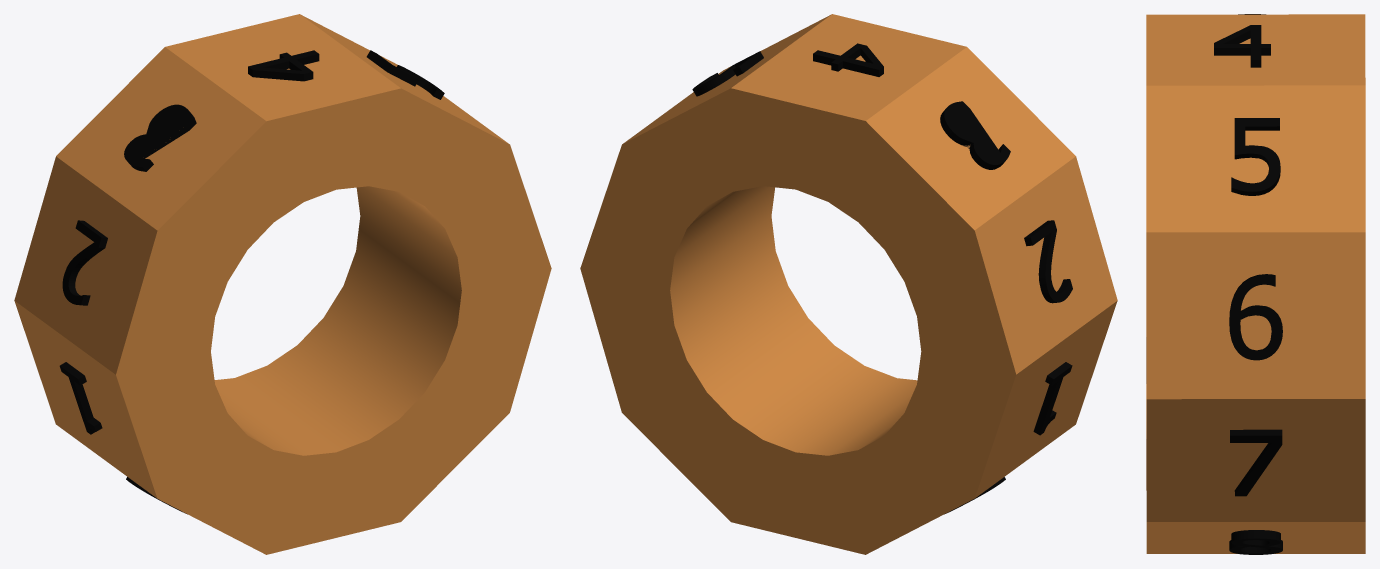
The model's file is key gear fixed origin.fbx.
3 views of the same model, side by side, from view 1: azimuth 30°, elevation 25°; view 2: azimuth 150°, elevation 25°; view 3: azimuth 270°, elevation 25° (orthographic). The views are drawn at different scales.
Visible parts, largest first — view 1: Group1, G_3_1, G_4_1, G_2_1, G_1_1_1, G_5_2_1; view 2: Group1, G_3_1, G_2_1, G_4_1, G_1_1_1, G_5_2_1; view 3: Group1, G_6_1, G_5_2_1, G_7_1, G_4_1, G_8_1.
Part boxes in pixels (<box>): Group1: <box>14,14,551,554</box>; G_3_1: <box>124,104,196,171</box>; G_4_1: <box>248,50,319,81</box>; G_2_1: <box>62,220,107,305</box>; G_1_1_1: <box>59,362,102,434</box>; G_5_2_1: <box>366,50,444,99</box>; Group1: <box>580,14,1117,554</box>; G_3_1: <box>940,101,1010,169</box>; G_2_1: <box>1024,220,1072,303</box>; G_4_1: <box>813,43,883,76</box>; G_1_1_1: <box>1033,362,1072,435</box>; G_5_2_1: <box>692,51,763,96</box>; Group1: <box>1146,14,1365,553</box>; G_6_1: <box>1229,274,1282,360</box>; G_5_2_1: <box>1231,118,1280,195</box>; G_7_1: <box>1230,429,1282,496</box>; G_4_1: <box>1214,25,1270,67</box>; G_8_1: <box>1229,530,1282,554</box>.
Bounding box in the file's own units: 0.0123 × 0.0121 × 0.00497.
